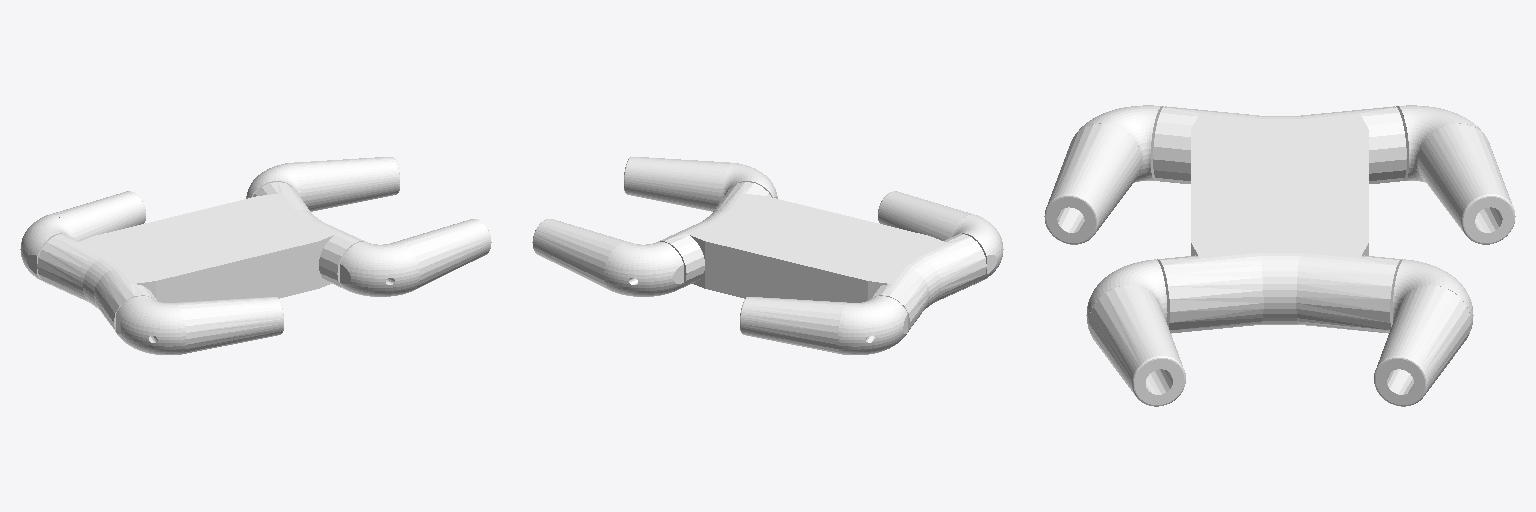
robot.urdf — 13_degree:
<?xml version="1.0" encoding="utf-8"?>
<!-- This URDF was automatically created by SolidWorks to URDF Exporter! Originally created by [author] ([email redacted]) 
     Commit Version: 1.5.1-0-g916b5db  Build Version: 1.5.7152.31018
     For more information, please see http://wiki.ros.org/sw_urdf_exporter -->
<robot
  name="13_degree">
  <link
    name="base_link">
    <inertial>
      <origin
        xyz="-1.3878E-17 4.651E-08 -4.9561E-15"
        rpy="0 0 0" />
      <mass
        value="2.803" />
      <inertia
        ixx="0.010068140"
        ixy="1.1102E-11"
        ixz="-8.5308E-11"
        iyy="0.039920343"
        iyz="-3.1413E-18"
        izz="0.047624051" />
    </inertial>
    <visual>
      <origin
        xyz="0 0 0"
        rpy="0 0 0" />
      <geometry>
        <mesh
          filename="package://13_degree/meshes/base_link.STL" />
      </geometry>
      <material
        name="">
        <color
          rgba="1 1 1 1" />
      </material>
    </visual>
    <collision>
      <origin
        xyz="0 0 0"
        rpy="0 0 0" />
      <geometry>
        <mesh
          filename="package://13_degree/meshes/base_link.STL" />
      </geometry>
    </collision>
  </link>
  <link
    name="left_fromt_link">
    <inertial>
      <origin
        xyz="-2.2257E-08 0.066173 -0.021786"
        rpy="0 0 0" />
      <mass
        value="0.0873" />
      <inertia
        ixx="0.000266353"
        ixy="7.9273E-10"
        ixz="6.8531E-10"
        iyy="0.000050708"
        iyz="-0.00027232"
        izz="0.000262445" />
    </inertial>
    <visual>
      <origin
        xyz="0 0 0"
        rpy="0 0 0" />
      <geometry>
        <mesh
          filename="package://13_degree/meshes/left_fromt_link.STL" />
      </geometry>
      <material
        name="">
        <color
          rgba="1 1 1 1" />
      </material>
    </visual>
    <collision>
      <origin
        xyz="0 0 0"
        rpy="0 0 0" />
      <geometry>
        <mesh
          filename="package://13_degree/meshes/left_fromt_link.STL" />
      </geometry>
    </collision>
  </link>
  <joint
    name="left_front_leg"
    type="continuous">
    <origin
      xyz="0.15317 0.10036 0"
      rpy="1.5708 1.5708 0" />
    <parent
      link="base_link" />
    <child
      link="left_fromt_link" />
    <axis
      xyz="0 0.22495 -0.97437" />
    <limit
      effort="5"
      velocity="487" />
  </joint>
  <link
    name="right_front_link">
    <inertial>
      <origin
        xyz="2.2257E-08 0.066173 0.021786"
        rpy="0 0 0" />
      <mass
        value="0.0873" />
      <inertia
        ixx="0.000266353"
        ixy="-7.9273E-10"
        ixz="6.8531E-10"
        iyy="0.000050708"
        iyz="0.000027232"
        izz="0.000262445" />
    </inertial>
    <visual>
      <origin
        xyz="0 0 0"
        rpy="0 0 0" />
      <geometry>
        <mesh
          filename="package://13_degree/meshes/right_front_link.STL" />
      </geometry>
      <material
        name="">
        <color
          rgba="1 1 1 1" />
      </material>
    </visual>
    <collision>
      <origin
        xyz="0 0 0"
        rpy="0 0 0" />
      <geometry>
        <mesh
          filename="package://13_degree/meshes/right_front_link.STL" />
      </geometry>
    </collision>
  </link>
  <joint
    name="right_front_leg"
    type="continuous">
    <origin
      xyz="0.15317 -0.10036 0"
      rpy="1.5708 1.5708 0" />
    <parent
      link="base_link" />
    <child
      link="right_front_link" />
    <axis
      xyz="0 0.22495 0.97437" />
    <limit
      effort="5"
      velocity="487" />
  </joint>
  <link
    name="right_back_link">
    <inertial>
      <origin
        xyz="8.5295E-08 0.059581 0.036114"
        rpy="0 0 0" />
      <mass
        value="0.0873" />
      <inertia
        ixx="0.000266353"
        ixy="-5.7904E-10"
        ixz="2.5005E-10"
        iyy="0.000049485"
        iyz="-2.1934E-05"
        izz="0.00263668" />
    </inertial>
    <visual>
      <origin
        xyz="0 0 0"
        rpy="0 0 0" />
      <geometry>
        <mesh
          filename="package://13_degree/meshes/right_back_link.STL" />
      </geometry>
      <material
        name="">
        <color
          rgba="1 1 1 1" />
      </material>
    </visual>
    <collision>
      <origin
        xyz="0 0 0"
        rpy="0 0 0" />
      <geometry>
        <mesh
          filename="package://13_degree/meshes/right_back_link.STL" />
      </geometry>
    </collision>
  </link>
  <joint
    name="right_back_leg"
    type="continuous">
    <origin
      xyz="-0.15317 -0.10036 0"
      rpy="1.7977 1.5708 0" />
    <parent
      link="base_link" />
    <child
      link="right_back_link" />
    <axis
      xyz="0 0 1" />
    <limit
      effort="5"
      velocity="487" />
  </joint>
  <link
    name="left_back_link">
    <inertial>
      <origin
        xyz="-8.5295E-08 0.04993 -0.048591"
        rpy="0 0 0" />
      <mass
        value="0.0873" />
      <inertia
        ixx="0.000266353"
        ixy="6.2045E-10"
        ixz="1.1338E-10"
        iyy="0.000069939"
        iyz="0.00006666"
        izz="0.000243214" />
    </inertial>
    <visual>
      <origin
        xyz="0 0 0"
        rpy="0 0 0" />
      <geometry>
        <mesh
          filename="package://13_degree/meshes/left_back_link.STL" />
      </geometry>
      <material
        name="">
        <color
          rgba="1 1 1 1" />
      </material>
    </visual>
    <collision>
      <origin
        xyz="0 0 0"
        rpy="0 0 0" />
      <geometry>
        <mesh
          filename="package://13_degree/meshes/left_back_link.STL" />
      </geometry>
    </collision>
  </link>
  <joint
    name="left_back_leg"
    type="continuous">
    <origin
      xyz="-0.15317 0.10036 0"
      rpy="1.5708 1.5708 0" />
    <parent
      link="base_link" />
    <child
      link="left_back_link" />
    <axis
      xyz="0 -0.22495 -0.97437" />
    <limit
      effort="5"
      velocity="487" />
  </joint>
</robot>

--- What the picture shows (computed from the rendered views, not written in the file) ---
Views: 3 orthographic renders of the robot side by side, from view 1: azimuth 30°, elevation 25°; view 2: azimuth 150°, elevation 25°; view 3: azimuth 270°, elevation 25°.
Robot: 13_degree — 5 links, 4 joints (4 continuous); root link base_link; default pose: every joint at zero.
Links seen in each view (by area): view 1: base_link, right_back_link, right_front_link, left_fromt_link, left_back_link; view 2: base_link, left_back_link, left_fromt_link, right_front_link, right_back_link; view 3: base_link, right_back_link, left_back_link, left_fromt_link, right_front_link.
Link boxes in pixels (x1,y1,x2,y2): base_link: [37, 182, 365, 331]; right_back_link: [116, 296, 283, 354]; right_front_link: [340, 219, 491, 296]; left_fromt_link: [246, 157, 399, 211]; left_back_link: [20, 191, 145, 282]; base_link: [658, 182, 986, 331]; left_back_link: [740, 296, 907, 354]; left_fromt_link: [532, 219, 683, 296]; right_front_link: [624, 157, 777, 211]; right_back_link: [878, 191, 1003, 282]; base_link: [1153, 106, 1406, 333]; right_back_link: [1044, 105, 1163, 244]; left_back_link: [1396, 105, 1515, 244]; left_fromt_link: [1374, 259, 1473, 406]; right_front_link: [1086, 259, 1185, 406].
Bounding box of the posed robot: 0.5158 × 0.399 × 0.064 m (x, y, z).
Meshes: 5 distinct files referenced, 5 mesh visuals loaded (5 binary STL).